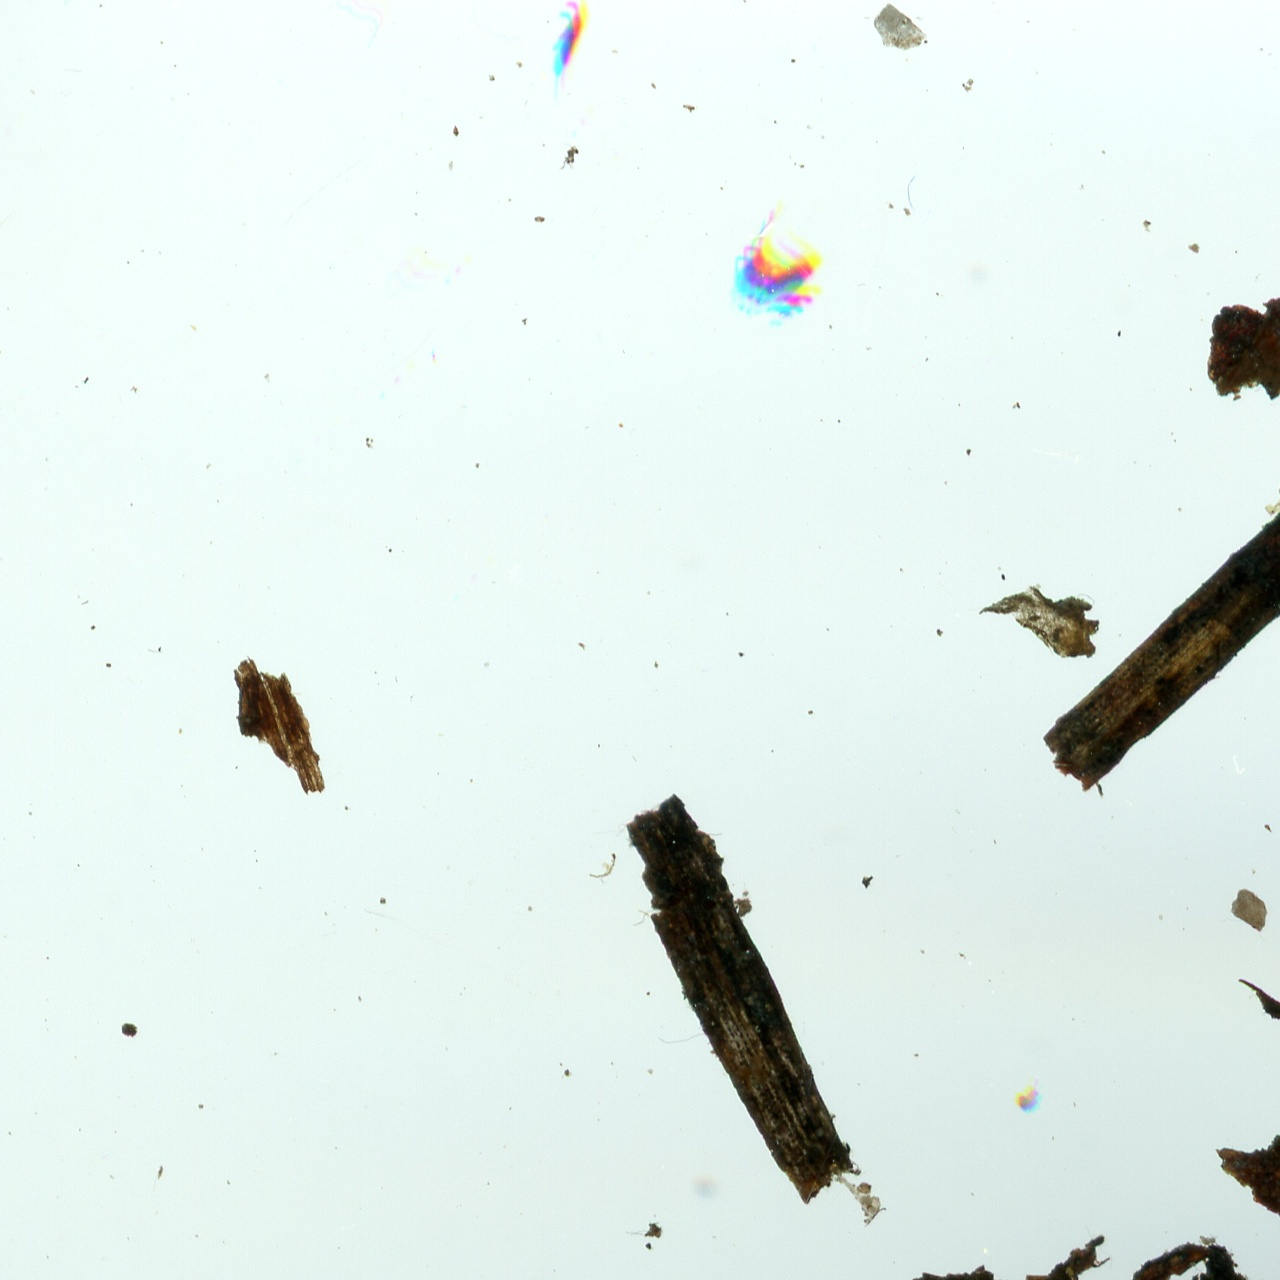arthropod: (733, 206, 823, 321), (532, 0, 599, 109)
